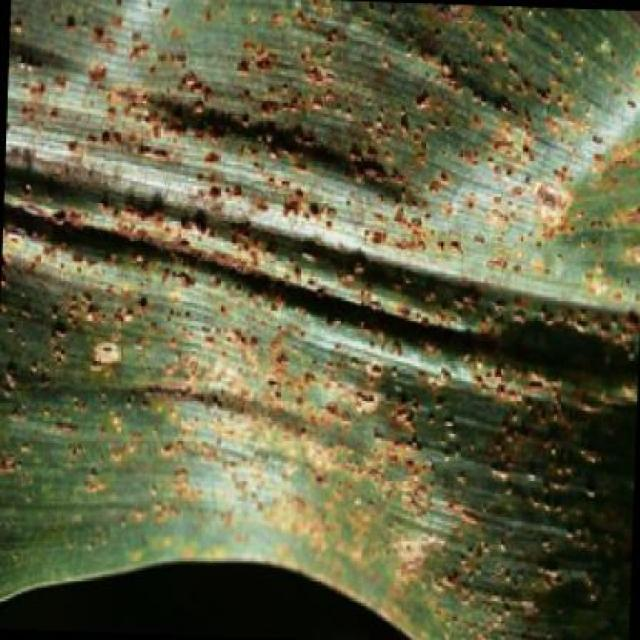Corn_Rust: (25, 9, 629, 626)
